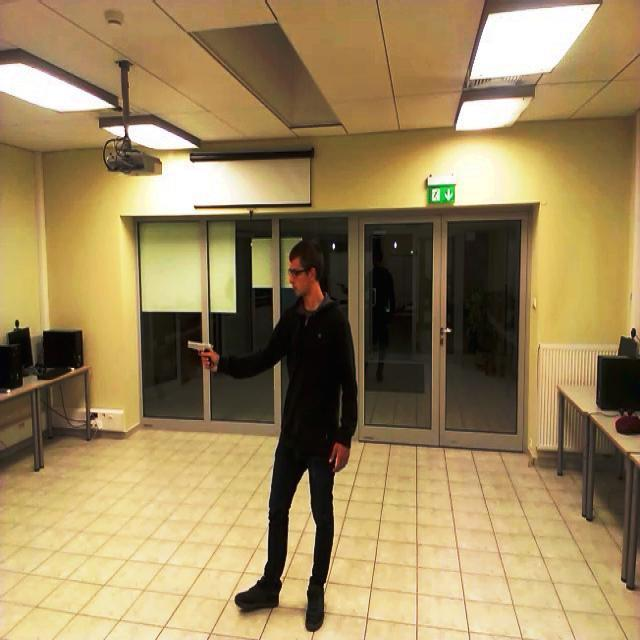Gun: (185, 335, 219, 363)
